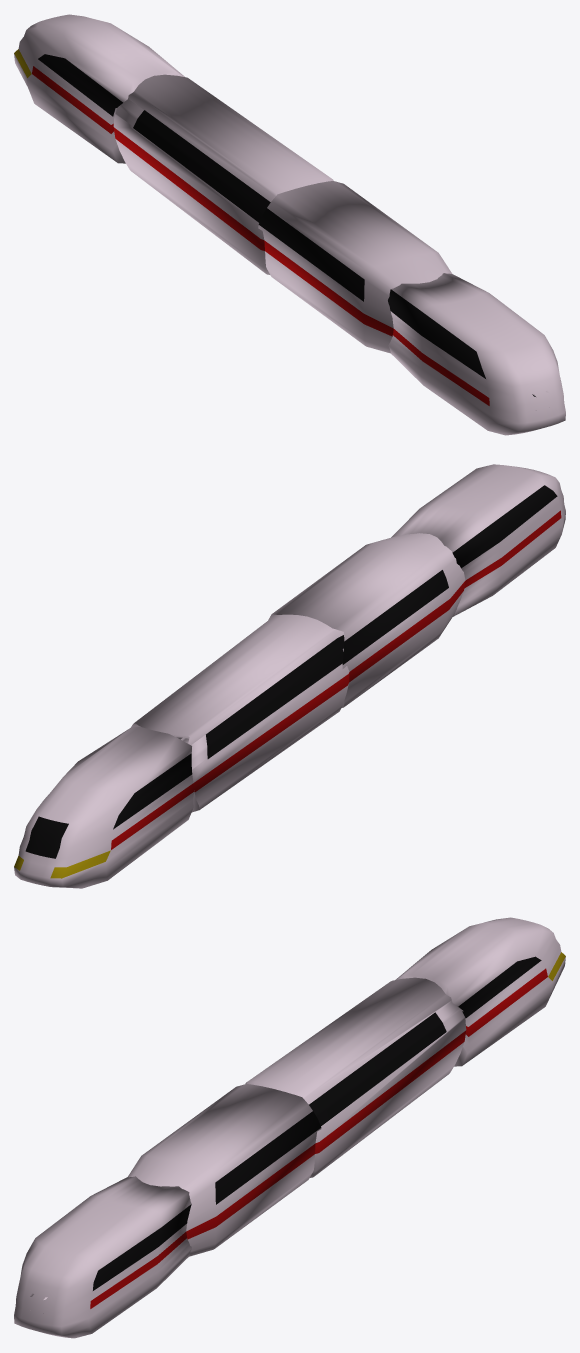
Rendered from Train.obj.
3 renders of one model, top to bottom at view 1: azimuth 30°, elevation 25°; view 2: azimuth 150°, elevation 25°; view 3: azimuth 330°, elevation 25°, orthographic.
Visible parts, largest first — view 1: Cube; view 2: Cube; view 3: Cube.
Boxes of the visible parts, x1,y1,x2,y2 form: Cube: (14, 14, 565, 435); Cube: (14, 464, 565, 888); Cube: (14, 917, 565, 1338).
Size of the model in its own units: 3.96 by 3.99 by 39.84.
